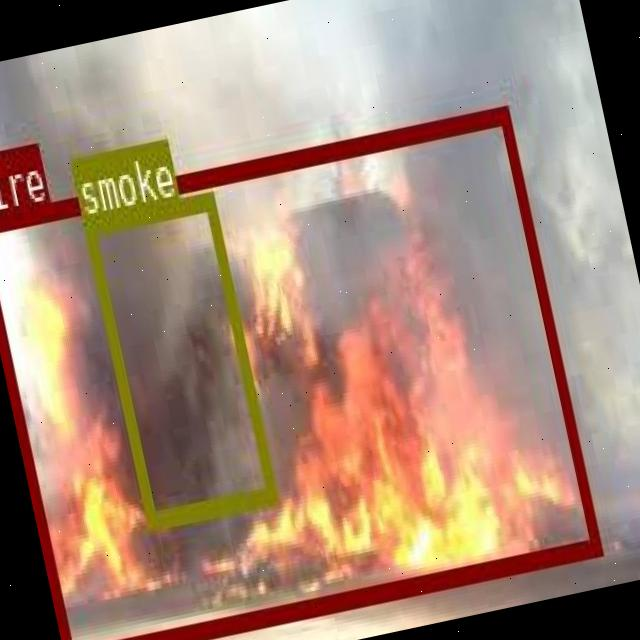fire: (0, 102, 600, 640)
smoke: (81, 188, 276, 526)
